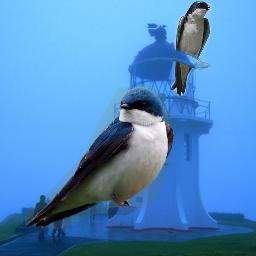Swallow: (25, 86, 174, 229), (171, 1, 212, 96)
